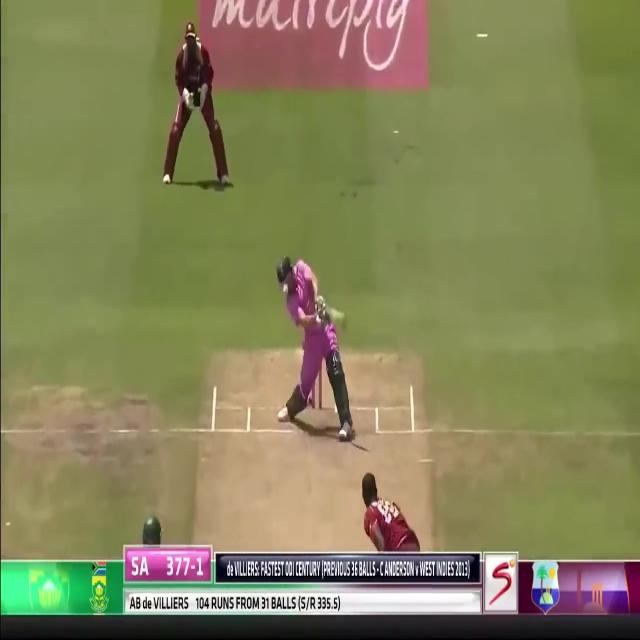Ball: (276, 254, 356, 434)
Fielder: (160, 18, 229, 192), (359, 473, 421, 551)
